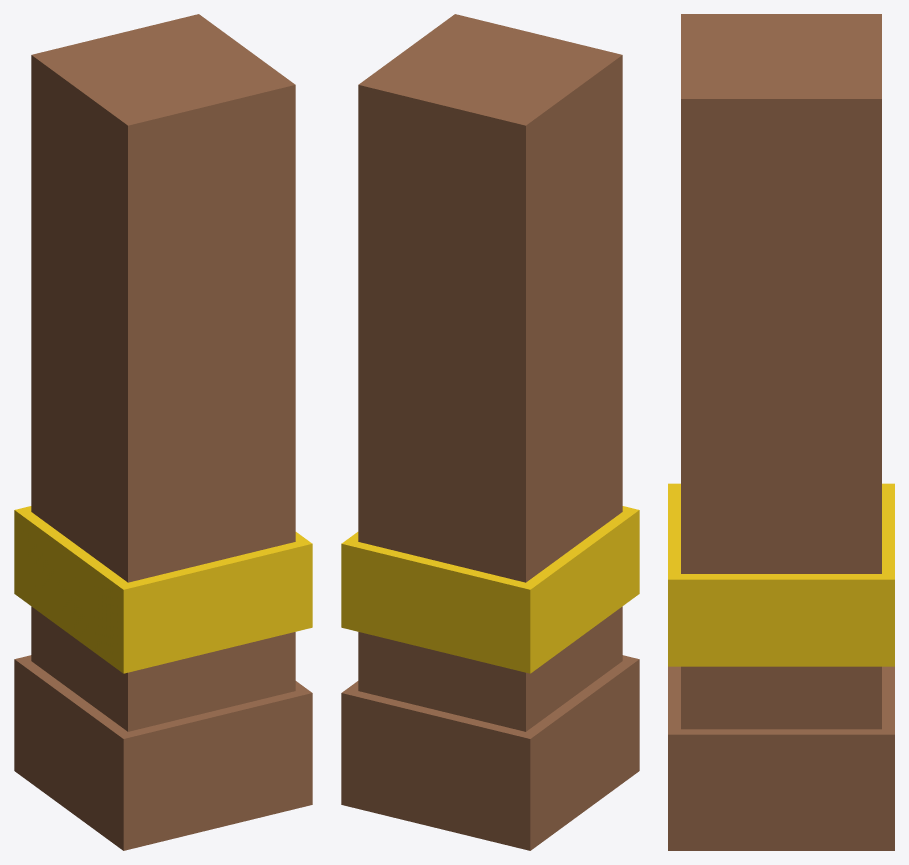
The model's file is Antebrazo.obj.
3 views of the same model, side by side, from view 1: azimuth 30°, elevation 25°; view 2: azimuth 150°, elevation 25°; view 3: azimuth 270°, elevation 25° (orthographic). The views are drawn at different scales.
Visible parts, largest first — view 1: Antebrazo; view 2: Antebrazo; view 3: Antebrazo.
Boxes of the visible parts, x1,y1,x2,y2 form: Antebrazo: [14, 14, 312, 850]; Antebrazo: [341, 14, 639, 850]; Antebrazo: [668, 14, 894, 850].
Bounding box in the file's own units: 0.106 × 0.385 × 0.106.
1 material, 1 textured.
